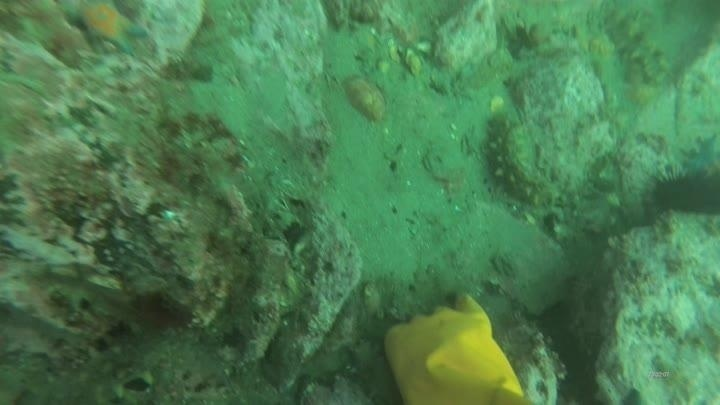echinus: (646, 166, 719, 219)
holothurian: (20, 333, 165, 405), (480, 115, 562, 211), (601, 6, 673, 87)
starfish: (64, 1, 150, 58), (680, 133, 720, 188)
